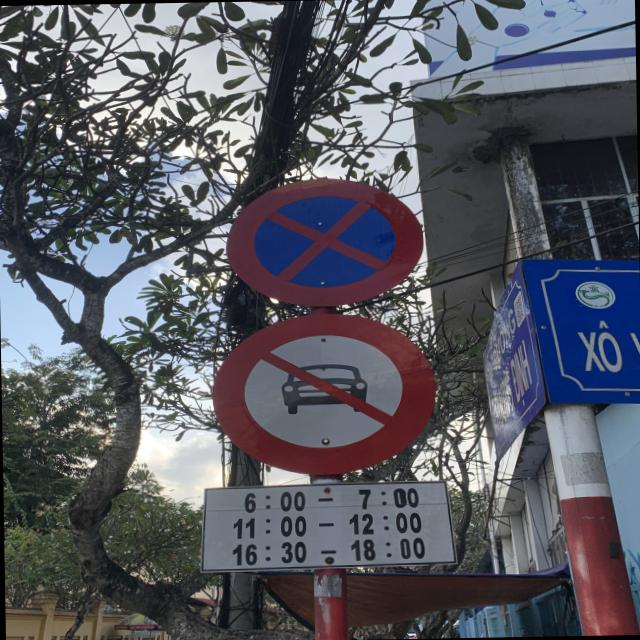Cam_Dung_Va_Dau_Xe: (226, 177, 427, 310)
Cam_O_To: (214, 310, 441, 477)
